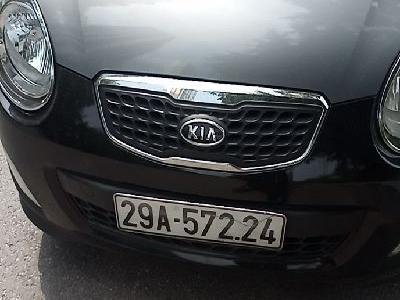car: (113, 193, 287, 253)
